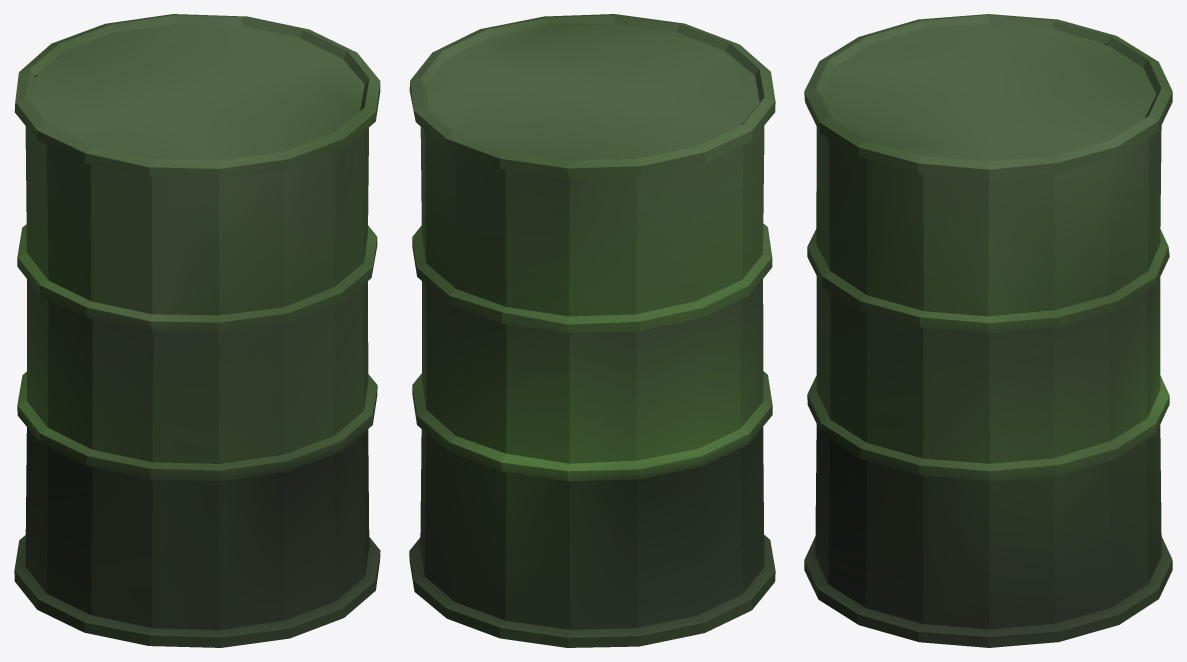
Rendered from BARRIL_2.fbx.
The picture shows the model from 3 angles, left to right: view 1: azimuth 30°, elevation 25°; view 2: azimuth 150°, elevation 25°; view 3: azimuth 270°, elevation 25°; orthographic projection.
Visible parts, largest first — view 1: barril2:polySurface4; view 2: barril2:polySurface4; view 3: barril2:polySurface4.
Boxes of the visible parts, x1,y1,x2,y2 form: barril2:polySurface4: (14,14,380,647); barril2:polySurface4: (409,14,775,647); barril2:polySurface4: (804,14,1172,647).
Bounding box in the file's own units: 1.72 × 2.5 × 1.72.
1 material, 1 textured.
